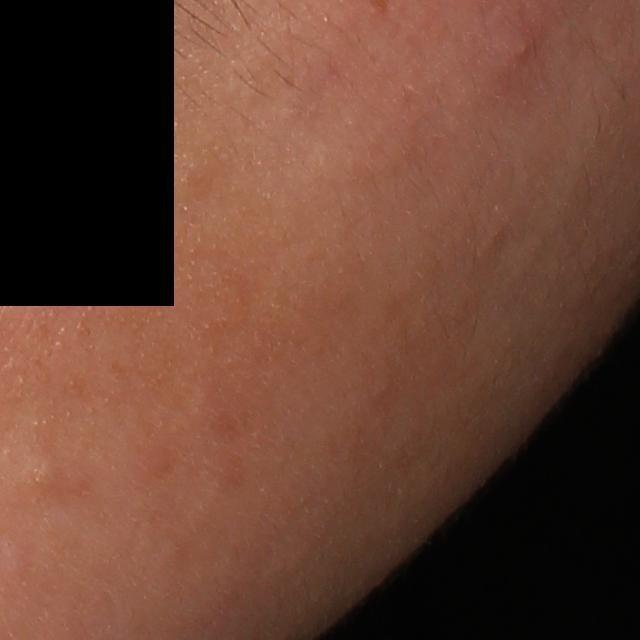comedo: (13, 451, 57, 492)
